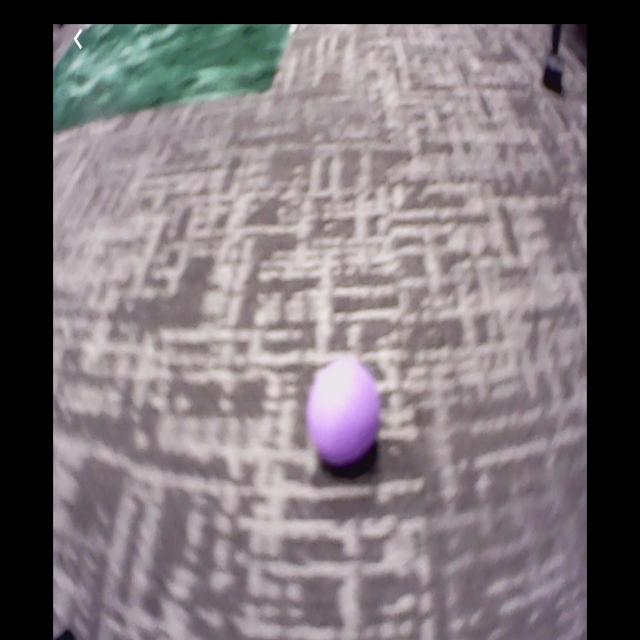ball: (307, 360, 382, 460)
